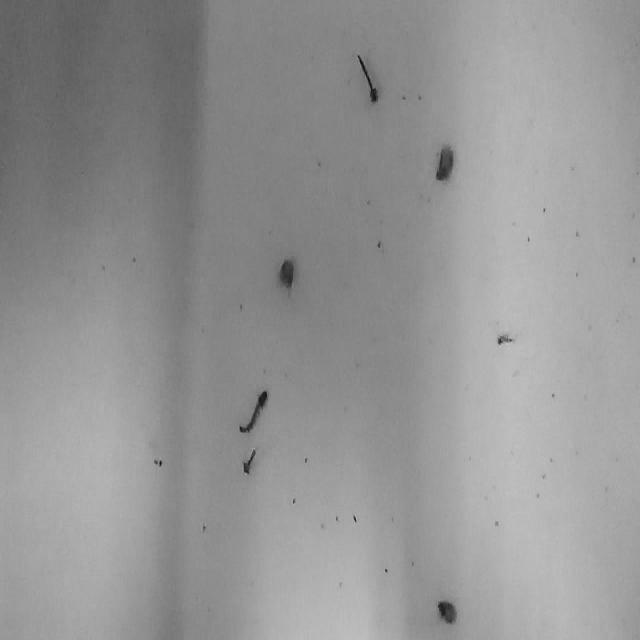larvas: (238, 388, 267, 432), (357, 54, 379, 102), (436, 144, 454, 180), (278, 258, 294, 289), (243, 446, 256, 474), (497, 333, 517, 343)
